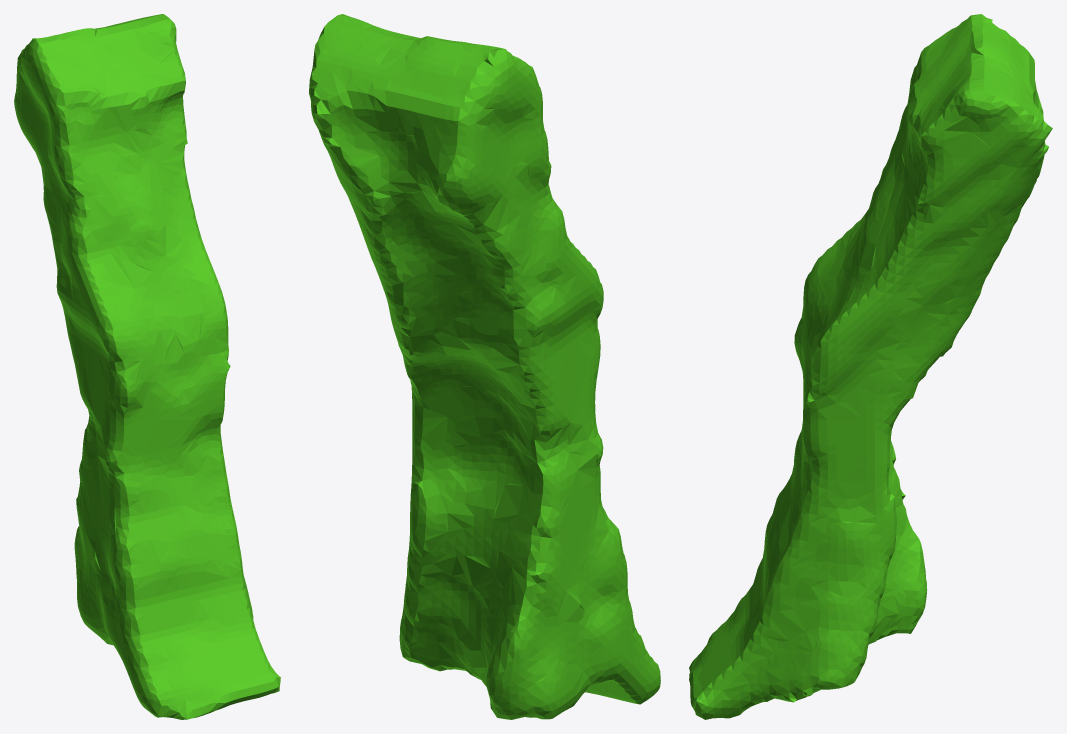
Rendered from Model_58_RH__Area_24b_of_cortex_(A24b).obj.
The picture shows the model from 3 angles, left to right: view 1: azimuth 30°, elevation 25°; view 2: azimuth 150°, elevation 25°; view 3: azimuth 270°, elevation 25°; orthographic projection. The views are drawn at different scales.
Bounding box in the file's own units: 1.97 × 7.48 × 3.78.
